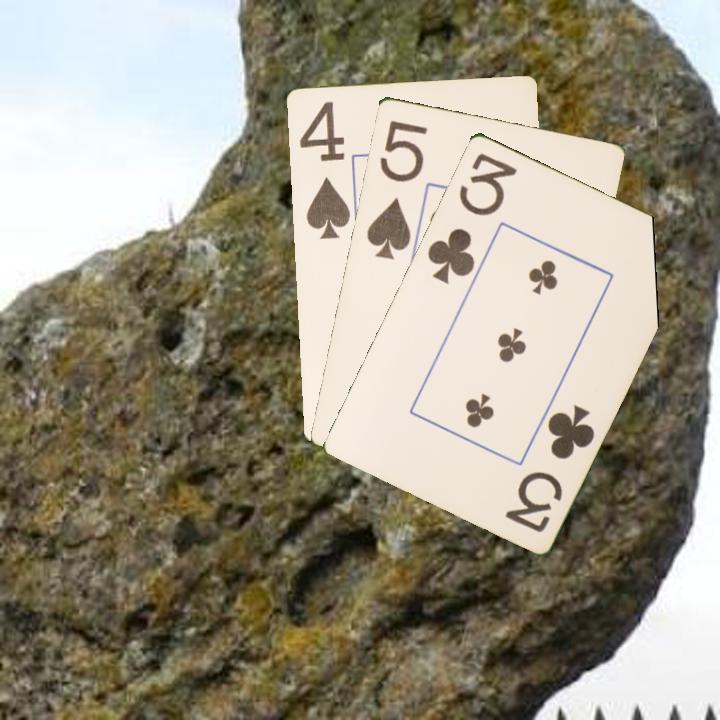3c: (423, 148, 520, 287), (501, 400, 598, 535)
4s: (295, 97, 352, 242)
5s: (362, 116, 430, 262)
